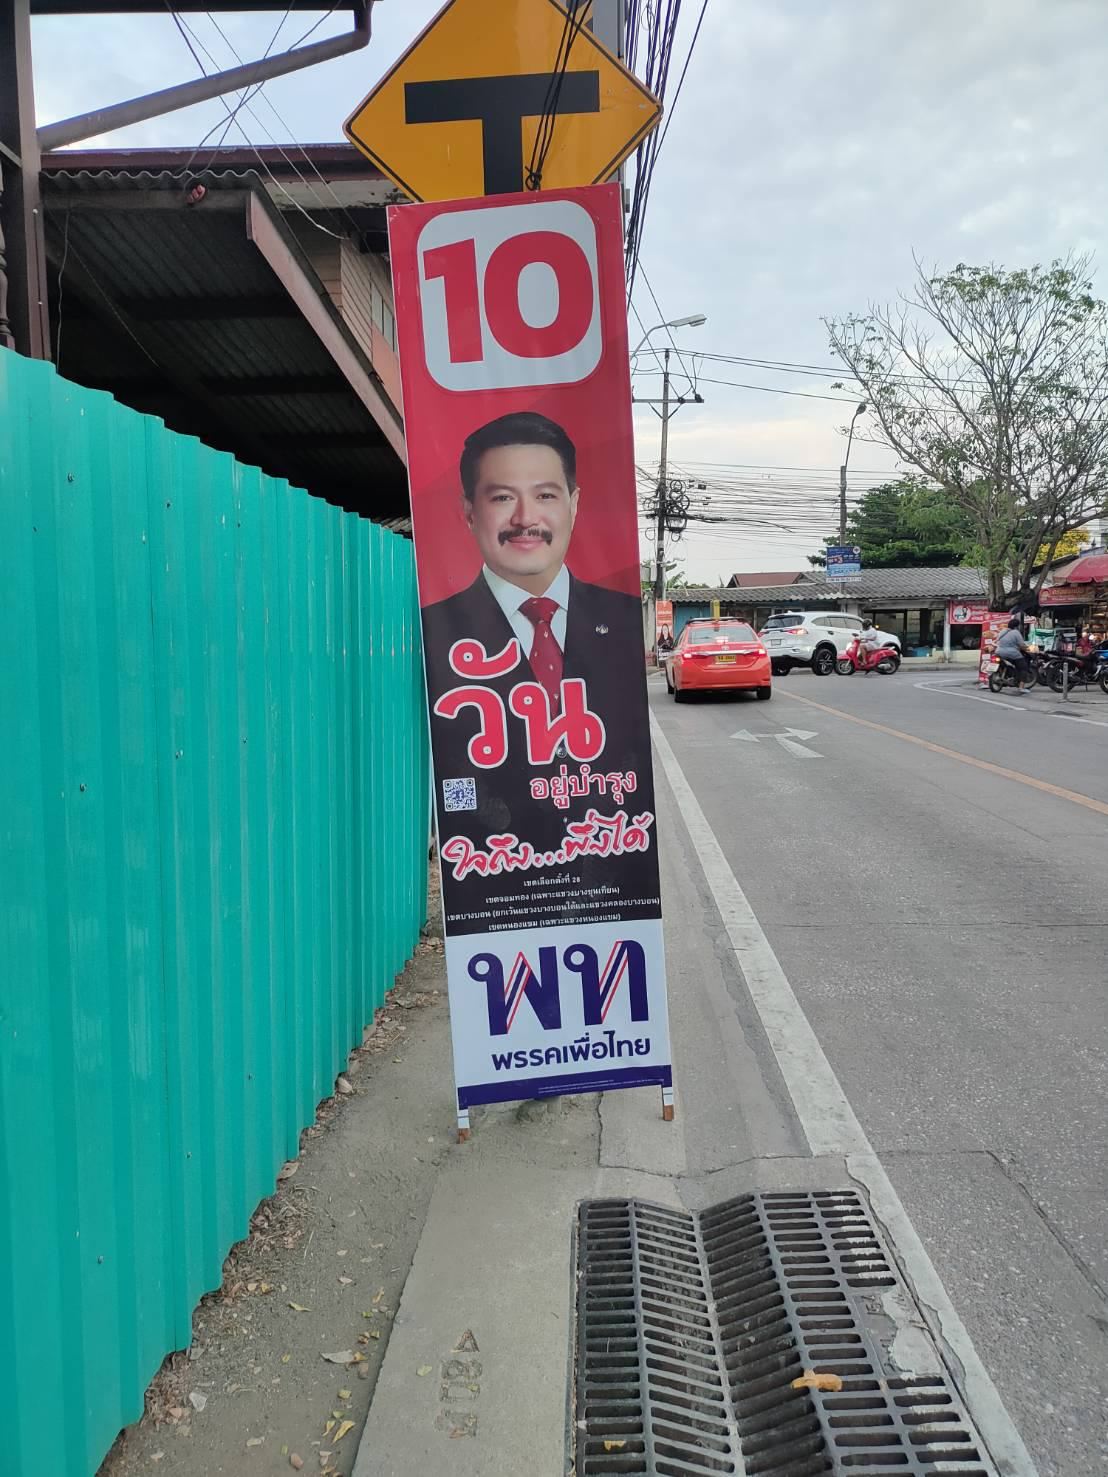Banner: (385, 208, 674, 1135)
